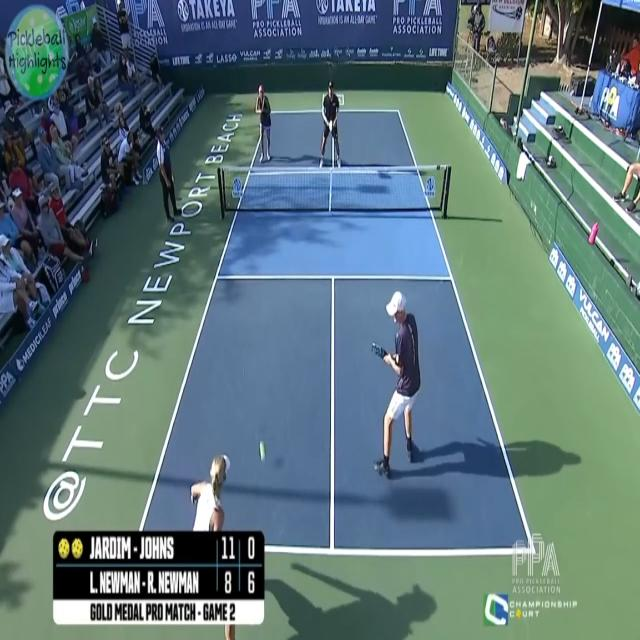ball: (255, 430, 269, 466)
